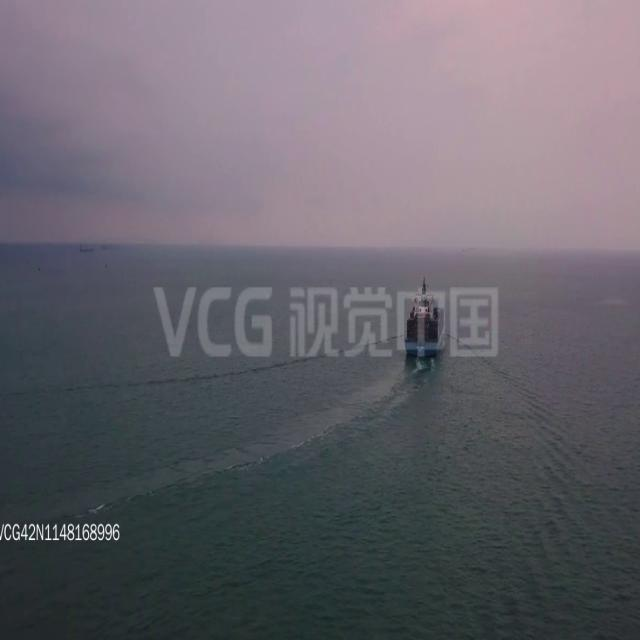cargoship: (402, 277, 446, 359)
